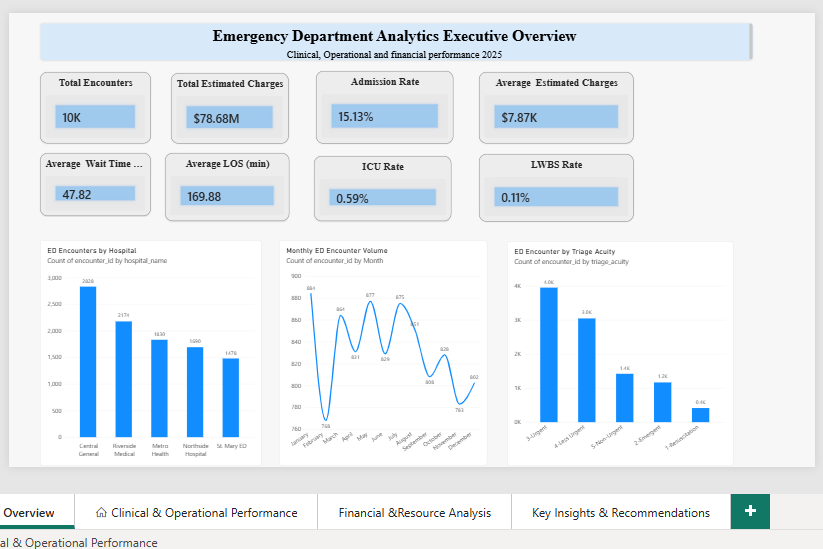

Layout of this report page (visuals, bound fields, positions):
{"tool":"powerbi","page":{"name":"Executive Overview","canvas":[1920,1080],"ordinal":0},"visuals":[{"type":"cardVisual","title":"Total Encounters","fields":{"Data":["emergency_department_dataset.Total_Encounters"]},"box":[72.7,140.9,263.6,170.5],"z":0},{"type":"cardVisual","title":"Average LOS (min)","fields":{"Data":["emergency_department_dataset.Average_LOS"]},"box":[370.5,334.1,296.2,161.5],"z":1000},{"type":"cardVisual","title":"Total Estimated Charges","fields":{"Data":["emergency_department_dataset.Total_Estimated_Charges"]},"box":[386.4,143.2,279.5,168.2],"z":2000},{"type":"cardVisual","title":"Average  Estimated Charges","fields":{"Data":["emergency_department_dataset.Average_Estimated_Charge"]},"box":[1118.2,140.9,368.2,170.5],"z":3000},{"type":"cardVisual","title":"Admission Rate","fields":{"Data":["emergency_department_dataset.Admission_Rate"]},"box":[731.8,138.6,327.3,172.7],"z":4000},{"type":"cardVisual","title":"Average  Wait Time (min)","fields":{"Data":["emergency_department_dataset.Average_Wait_Time"]},"box":[72.7,334.1,263.6,150],"z":5000},{"type":"cardVisual","title":"ICU Rate","fields":{"Data":["emergency_department_dataset.ICU_Rate"]},"box":[727.3,340.9,327.3,154.5],"z":6000},{"type":"cardVisual","title":"LWBS Rate","fields":{"Data":["emergency_department_dataset.left_without_seen_Rate"]},"box":[1118.2,336.4,368.2,161.4],"z":7000},{"type":"clusteredColumnChart","title":"ED Encounters by Hospital","fields":{"Category":["emergency_department_dataset.hospital_name"],"Y":["CountNonNull(emergency_department_dataset.encounter_id)"]},"box":[72.7,540.9,528.2,538.5],"z":8000},{"type":"lineChart","title":"Monthly ED Encounter Volume","fields":{"Category":["emergency_department_dataset.arrival_datetime.Variation.Date Hierarchy.Month"],"Y":["CountNonNull(emergency_department_dataset.encounter_id)"]},"box":[643.2,540.9,496.2,538.5],"z":9000},{"type":"textbox","box":[72.7,22.7,1697.7,88.6],"z":10000},{"type":"clusteredColumnChart","title":"ED Encounter by Triage Acuity","fields":{"Category":["emergency_department_dataset.triage_acuity"],"Y":["CountNonNull(emergency_department_dataset.encounter_id)"]},"box":[1186.4,543.2,538.6,536.4],"z":11000}]}

Visuals, with their boxes on the page's 1920x1080 design canvas (x1, y1, x2, y2). These are canvas units, not pixel positions in the 823x549 screenshot, which may show the page scaled, cropped or inside an application window:
"Total Encounters" cardVisual: bbox=(73, 141, 336, 311)
"Average LOS (min)" cardVisual: bbox=(370, 334, 667, 496)
"Total Estimated Charges" cardVisual: bbox=(386, 143, 666, 311)
"Average  Estimated Charges" cardVisual: bbox=(1118, 141, 1486, 311)
"Admission Rate" cardVisual: bbox=(732, 139, 1059, 311)
"Average  Wait Time (min)" cardVisual: bbox=(73, 334, 336, 484)
"ICU Rate" cardVisual: bbox=(727, 341, 1055, 495)
"LWBS Rate" cardVisual: bbox=(1118, 336, 1486, 498)
"ED Encounters by Hospital" clusteredColumnChart: bbox=(73, 541, 601, 1079)
"Monthly ED Encounter Volume" lineChart: bbox=(643, 541, 1139, 1079)
textbox: bbox=(73, 23, 1770, 111)
"ED Encounter by Triage Acuity" clusteredColumnChart: bbox=(1186, 543, 1725, 1080)
